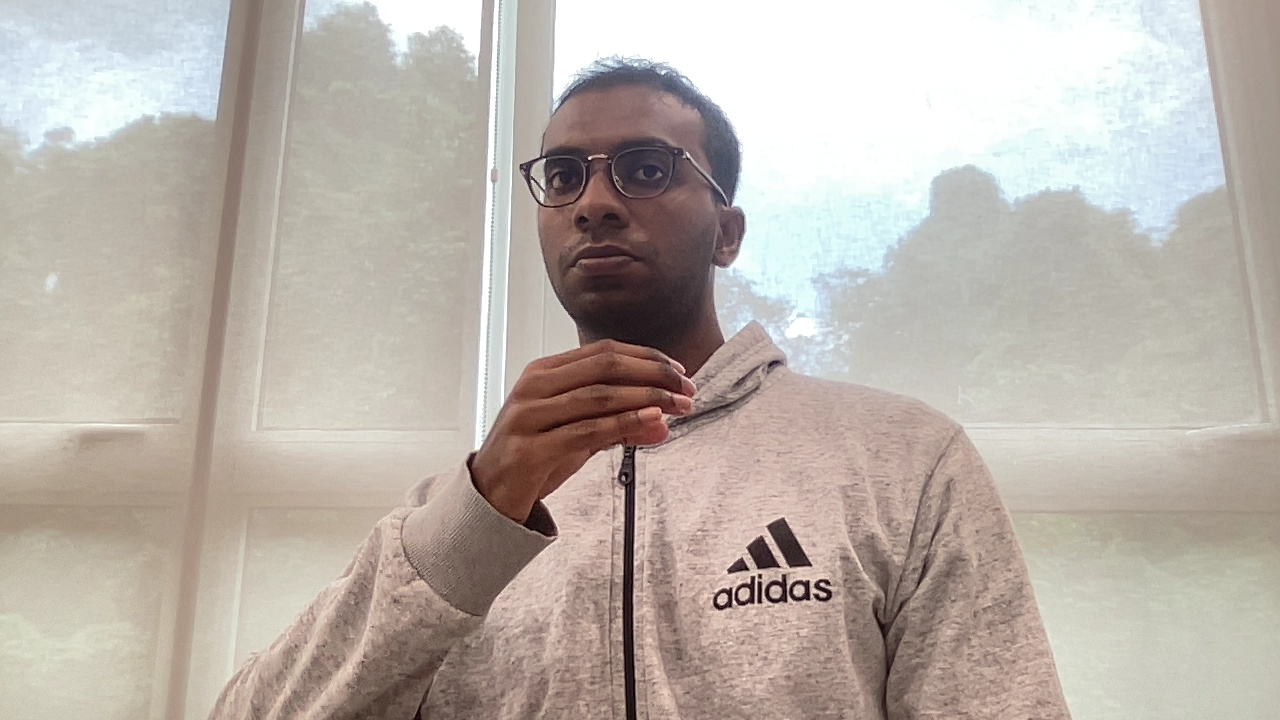drink: (498, 335, 703, 484)
